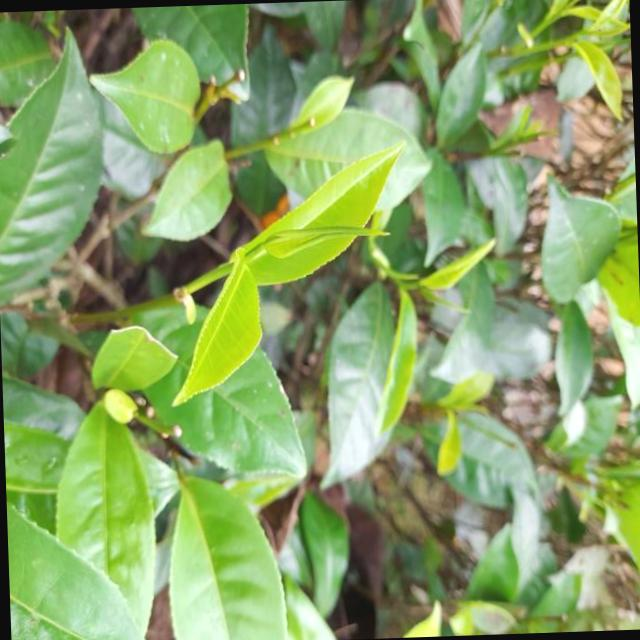Stem: (556, 38, 565, 45), (254, 246, 261, 254), (543, 19, 548, 25), (398, 277, 401, 285)
